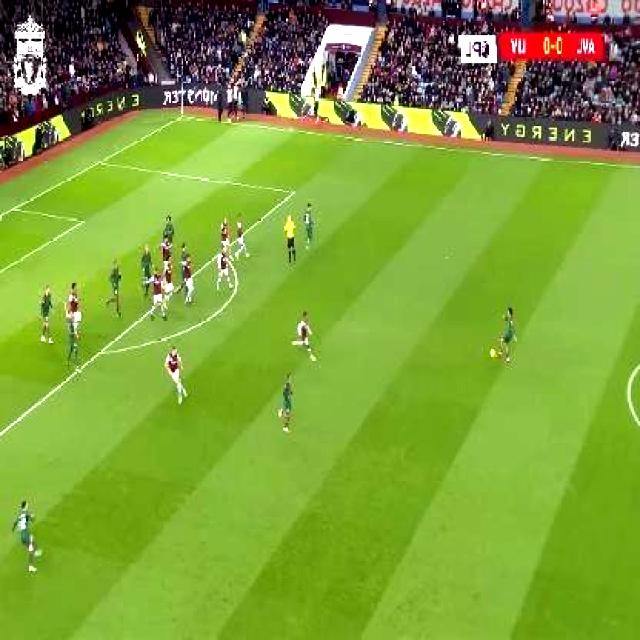bigarea_top_inner: (288, 180, 303, 202)
bigarea_top_outter: (94, 154, 108, 169)
bottom_arc_area_intersection: (94, 340, 109, 362)
corner: (175, 109, 192, 122)
smallarea_top_inner: (76, 211, 92, 231)
smallarea_top_outter: (6, 198, 22, 217)
